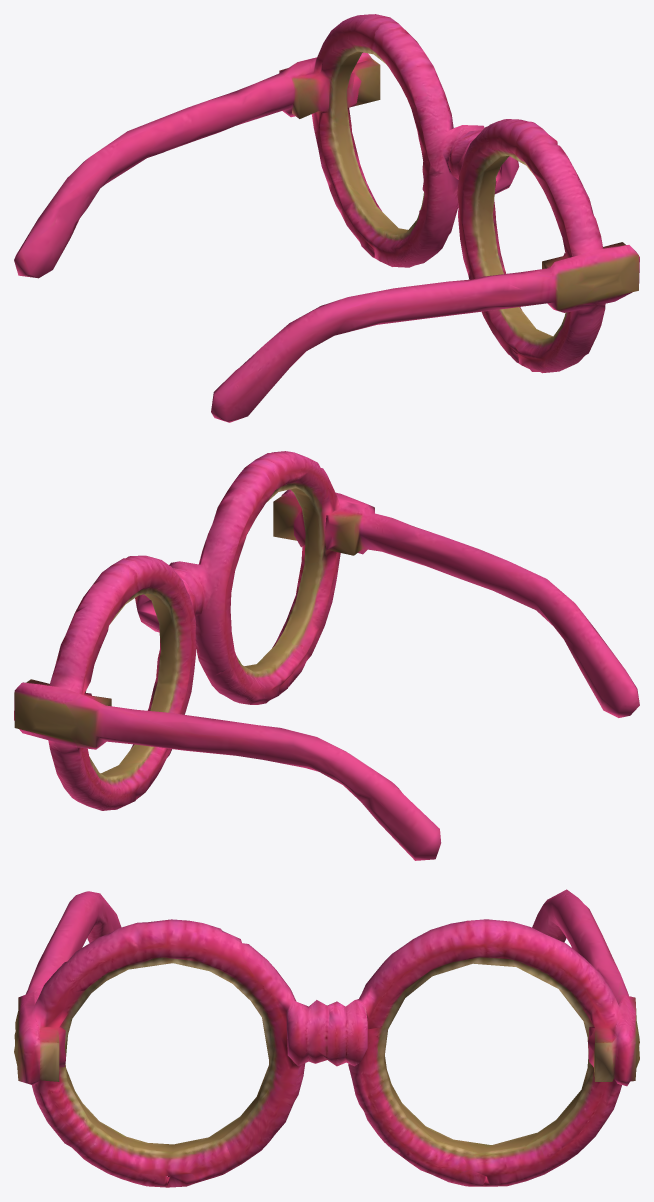
Rendered from glasses.glb.
3 views of the same model, one above another, from view 1: azimuth 30°, elevation 25°; view 2: azimuth 150°, elevation 25°; view 3: azimuth 270°, elevation 25° (orthographic). The views are drawn at different scales.
Visible parts, largest first — view 1: tripo_node_4ef69861-1e50-4242-9b22-45a06834664e; view 2: tripo_node_4ef69861-1e50-4242-9b22-45a06834664e; view 3: tripo_node_4ef69861-1e50-4242-9b22-45a06834664e.
Boxes of the visible parts, x1,y1,x2,y2 form: tripo_node_4ef69861-1e50-4242-9b22-45a06834664e: (14, 14, 639, 422); tripo_node_4ef69861-1e50-4242-9b22-45a06834664e: (14, 451, 639, 860); tripo_node_4ef69861-1e50-4242-9b22-45a06834664e: (14, 889, 639, 1187).
Size of the model in its own units: 0.8024 by 0.4622 by 1.
Materials: 1 (1 with a texture image).
